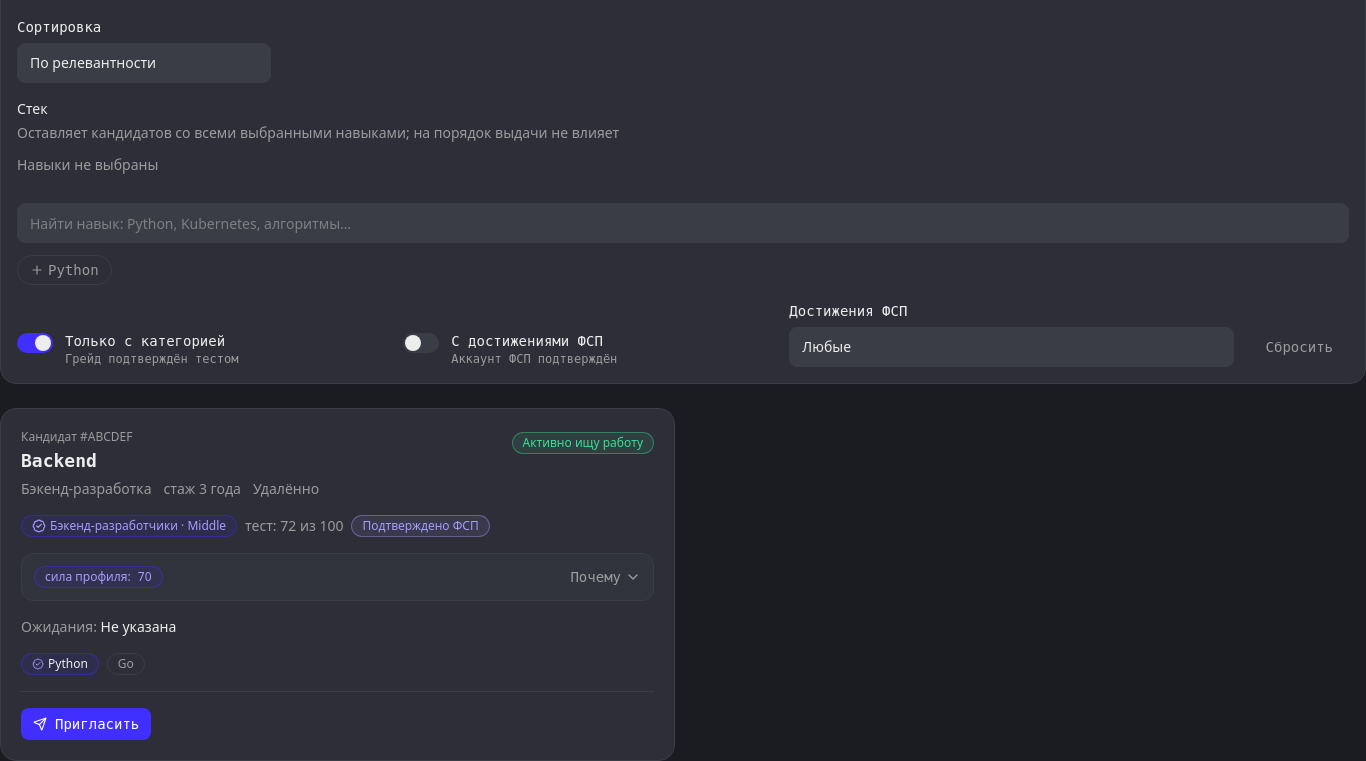
CatalogPage › shows only confirmed categories by default and explains the rank
(page scrolled)
Expected: the text "Бэкенд-разработчики · Middle" is shown, [21,515,237,537]
Expected: the text "72 из 100" is shown, [245,516,343,536]
Step 1. Click the button "Почему" → (606, 577), box [570,567,641,587]
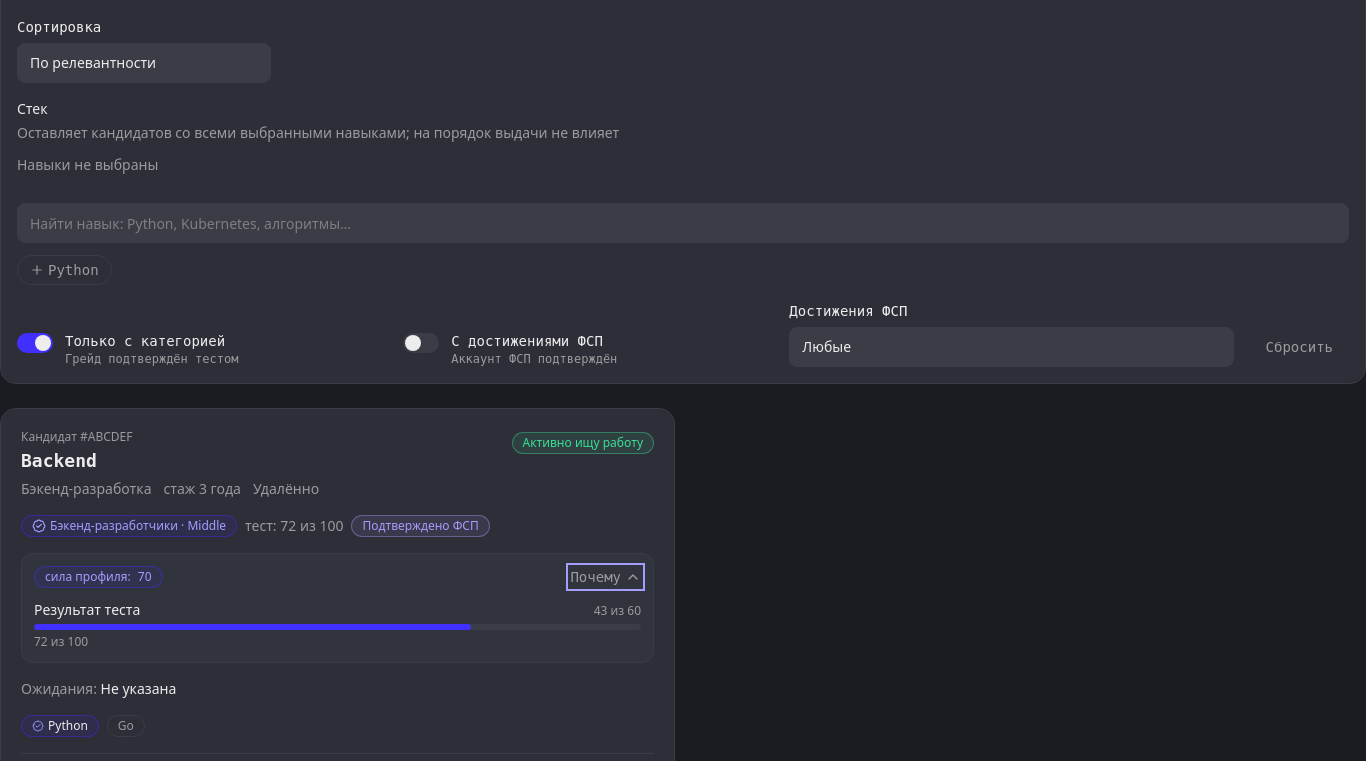
Result: the text "Результат теста" is shown at [34,600,140,620]
